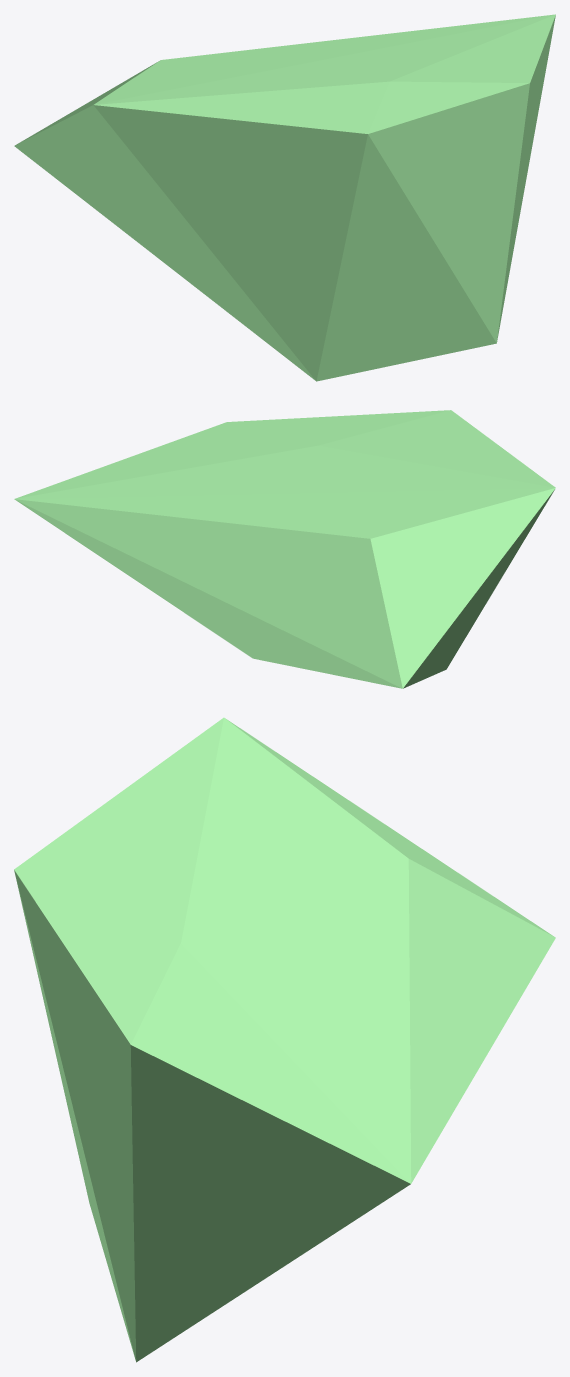
The model's file is UMIRobot_UMIRobot_link_3_convex_coll_14.dae.
3 renders of one model, top to bottom at view 1: azimuth 30°, elevation 25°; view 2: azimuth 150°, elevation 25°; view 3: azimuth 270°, elevation 25°, orthographic. The views are drawn at different scales.
Parts seen in each view (by area): view 1: node; view 2: node; view 3: node.
Boxes of the visible parts, <box> form: node: <box>14,14,555,381</box>; node: <box>14,410,555,688</box>; node: <box>14,717,555,1362</box>.
Size of the model in its own units: 0.021 by 0.0115 by 0.0139.
